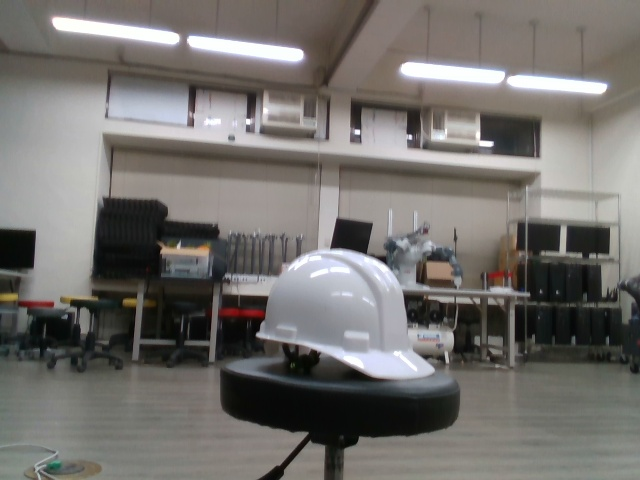helmet: (256, 245, 438, 381)
